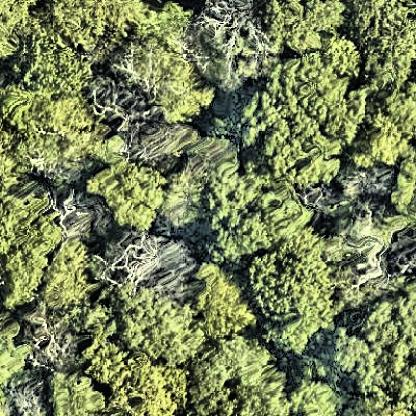tree-top: (240, 58, 362, 183), (194, 168, 308, 256), (251, 238, 335, 346), (337, 299, 413, 412), (185, 335, 288, 416), (194, 0, 288, 83), (8, 92, 102, 172), (126, 44, 212, 119), (90, 354, 191, 416), (1, 195, 56, 308), (330, 220, 400, 306), (106, 227, 191, 295), (122, 293, 202, 363), (351, 2, 412, 82), (47, 0, 150, 46), (23, 299, 87, 373), (97, 165, 167, 230), (360, 83, 412, 167), (264, 1, 351, 50), (40, 240, 96, 311), (195, 270, 251, 340), (21, 49, 93, 102), (125, 111, 190, 165), (47, 367, 107, 416), (54, 191, 108, 241), (0, 314, 29, 394), (289, 374, 344, 416), (0, 2, 33, 61), (327, 33, 365, 83), (389, 152, 416, 222)
